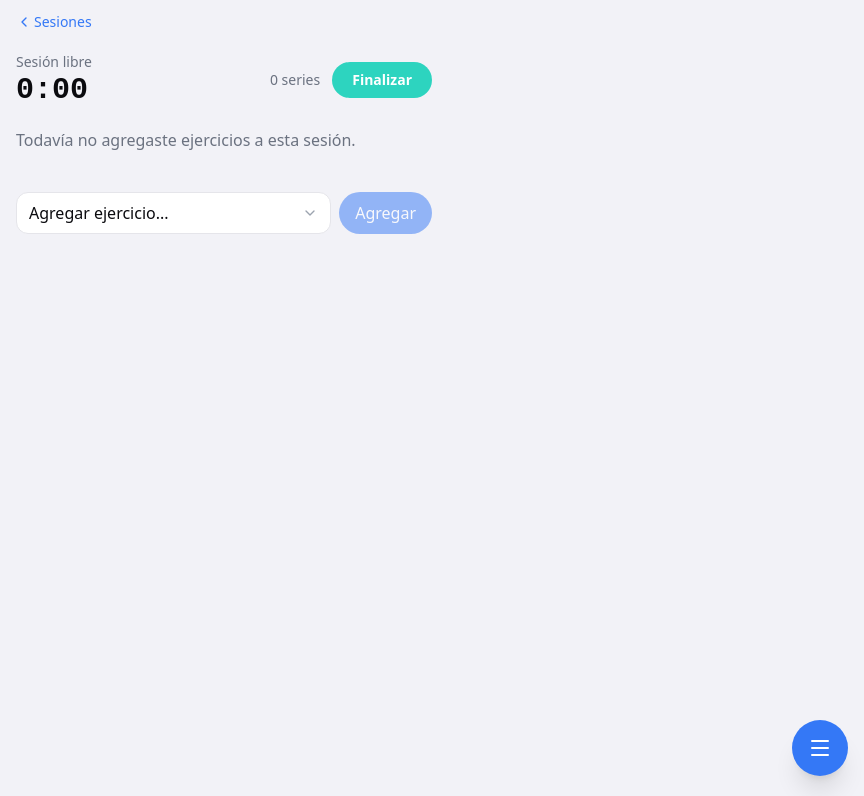
Scenario: SessionDetailPage › muestra un error si falla el guardado de una serie
The image size is (864, 796).
Expected: the text "Todavía no agregaste ejercicios a esta sesión." is shown, x1=16 y1=129 x2=356 y2=151
Click the button "Agregar ejercicio...". click: (99, 213)
box: x1=16 y1=192 x2=331 y2=234
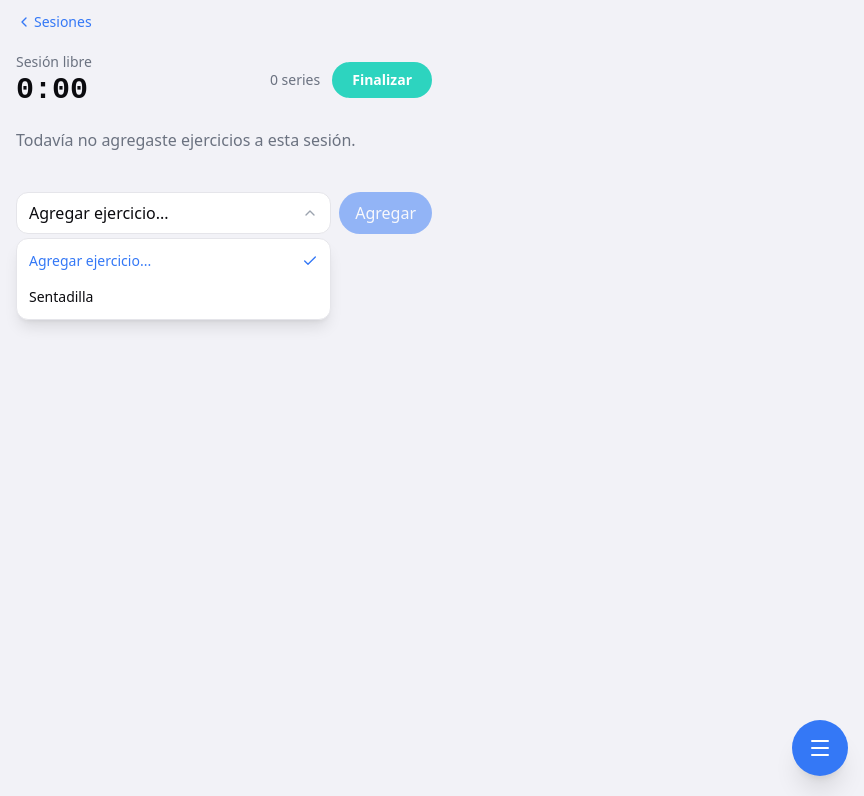
Click the button "Sentadilla". click: (61, 296)
box: x1=17 y1=279 x2=330 y2=315
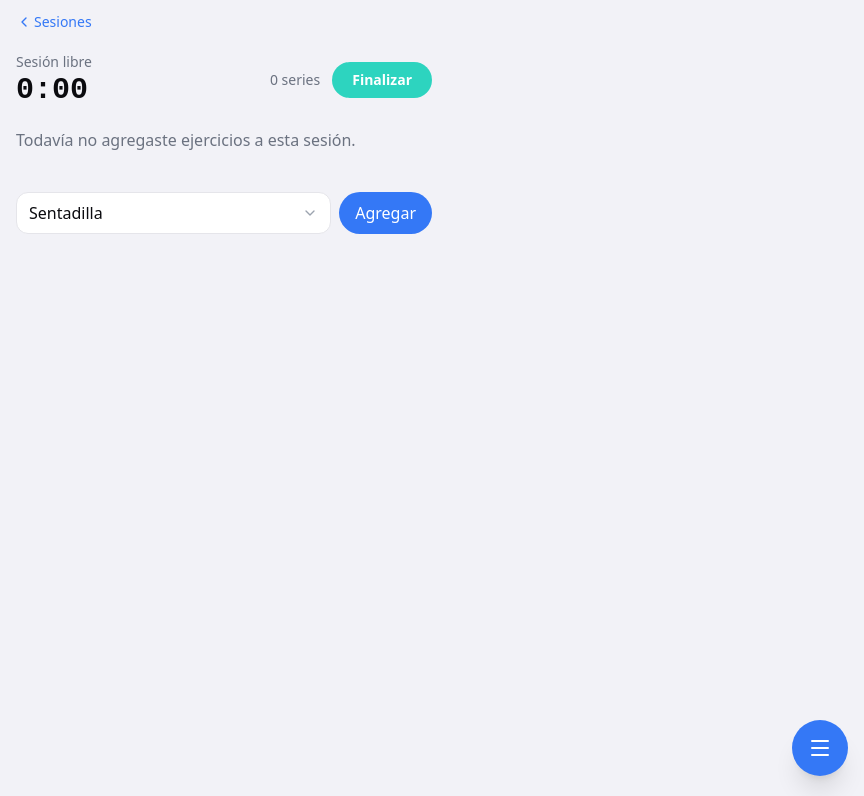
Click the button "Agregar". click: (386, 213)
box: x1=339 y1=192 x2=432 y2=234
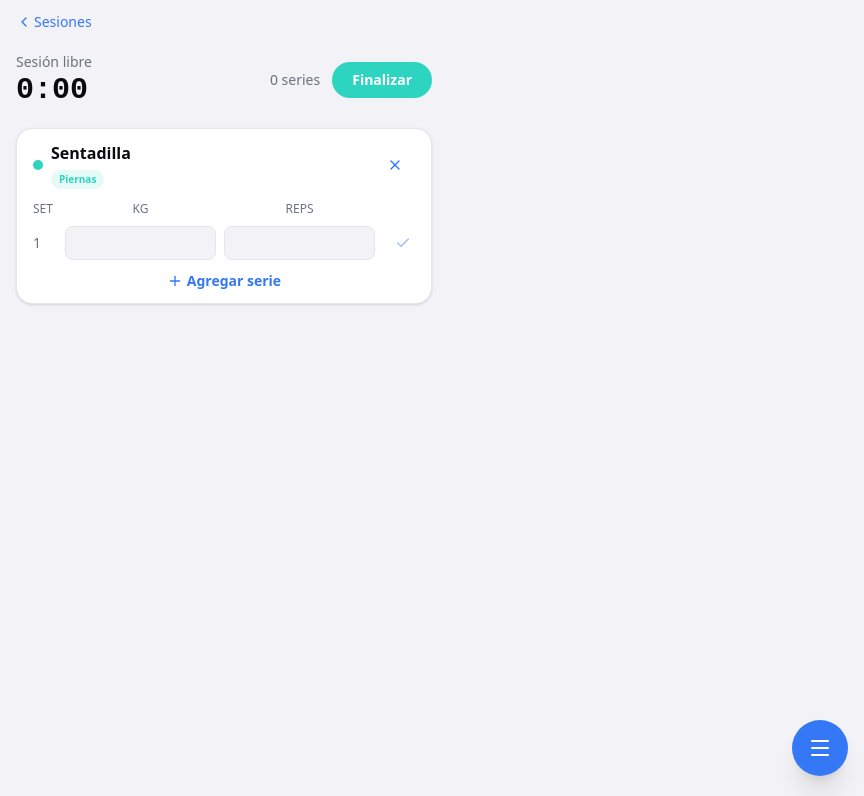
Expected: the text "Sentadilla" is shown, x1=51 y1=142 x2=131 y2=164
Type "50" into the number field named "Peso serie 1 de Sentadilla". click: (140, 243)
box: x1=65 y1=226 x2=216 y2=260
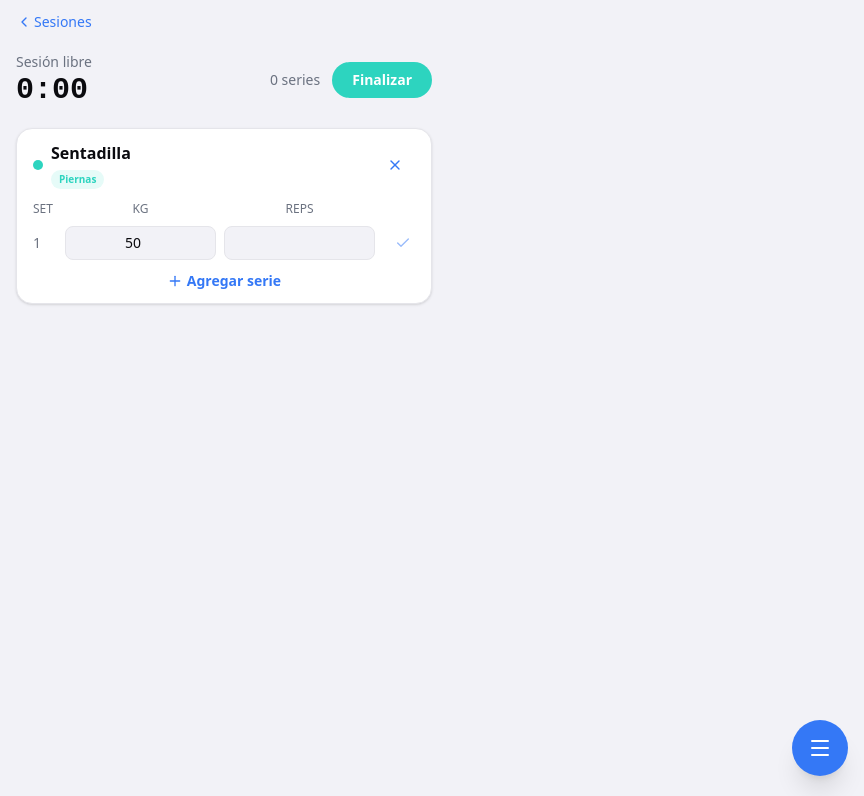
Type "10" into the number field named "Repeticiones serie 1 de Sentadilla". click: (300, 243)
box: x1=224 y1=226 x2=375 y2=260
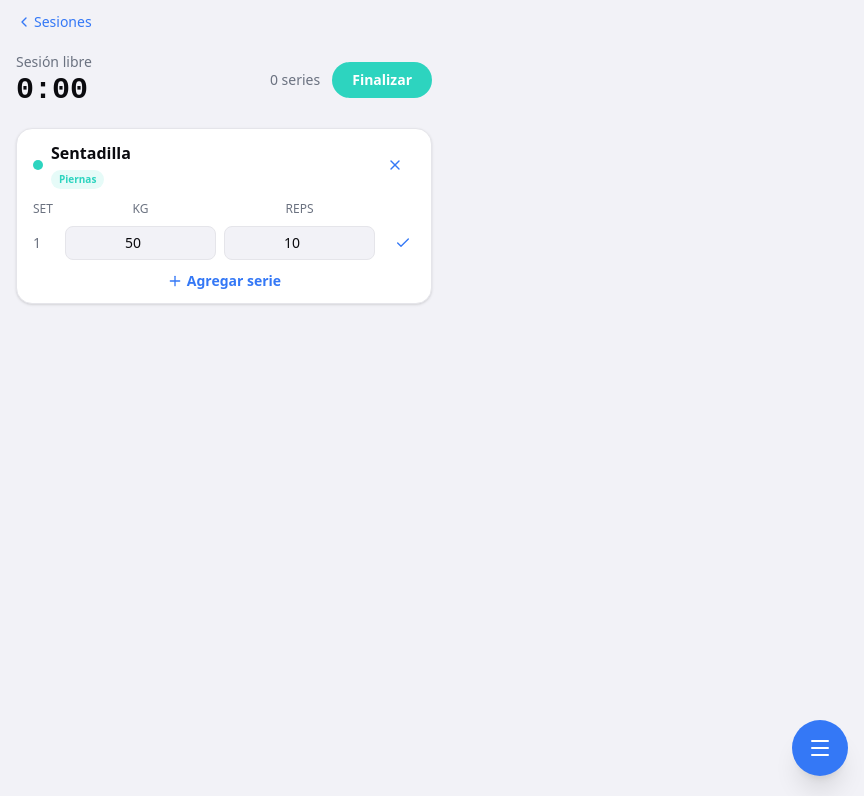
Click the button named "Guardar serie 1 de Sentadilla". click: (403, 243)
box: x1=383 y1=223 x2=423 y2=263
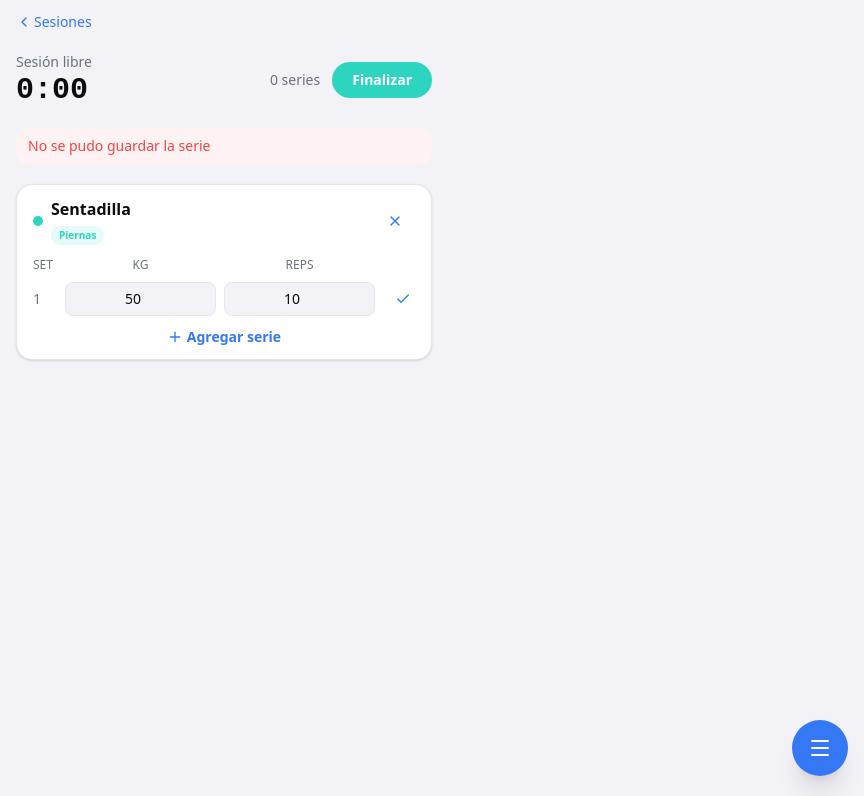
Expected: the text "No se pudo guardar la serie" is shown, x1=28 y1=136 x2=210 y2=155
